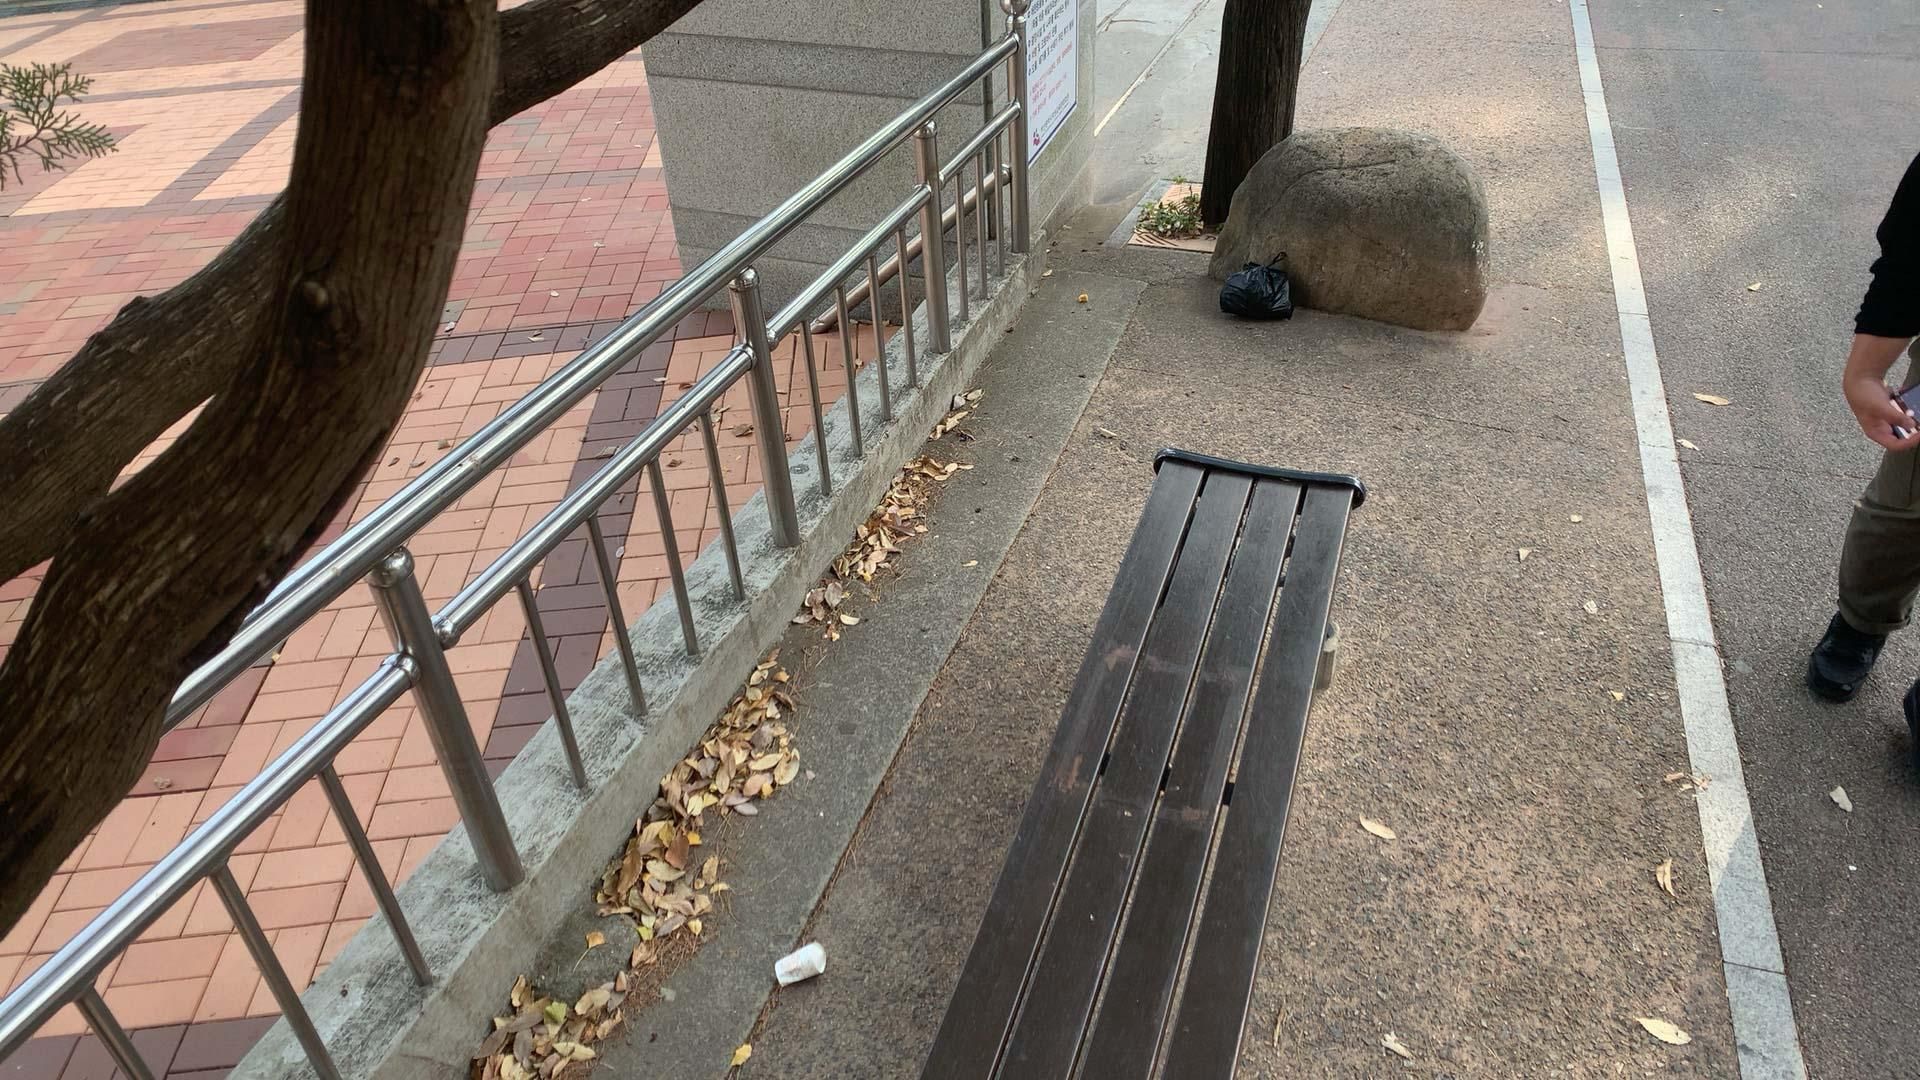black_bag: (1213, 249, 1300, 323)
